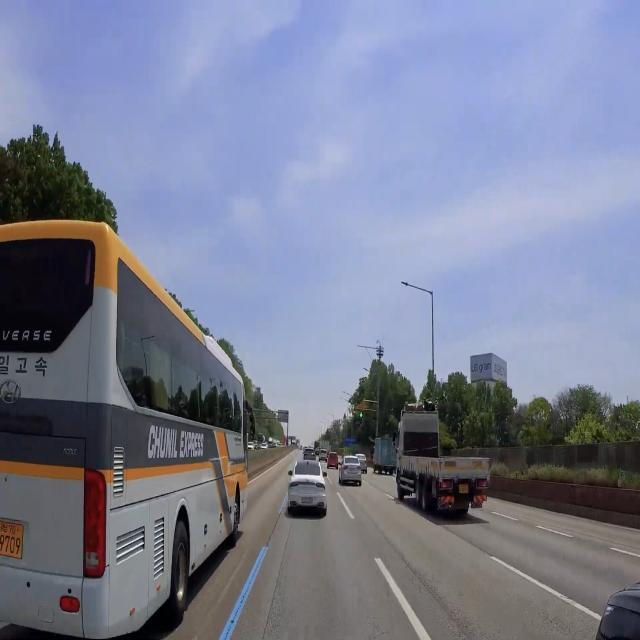car: (0, 516, 30, 560), (458, 481, 472, 498), (299, 494, 314, 509), (347, 467, 359, 476)
